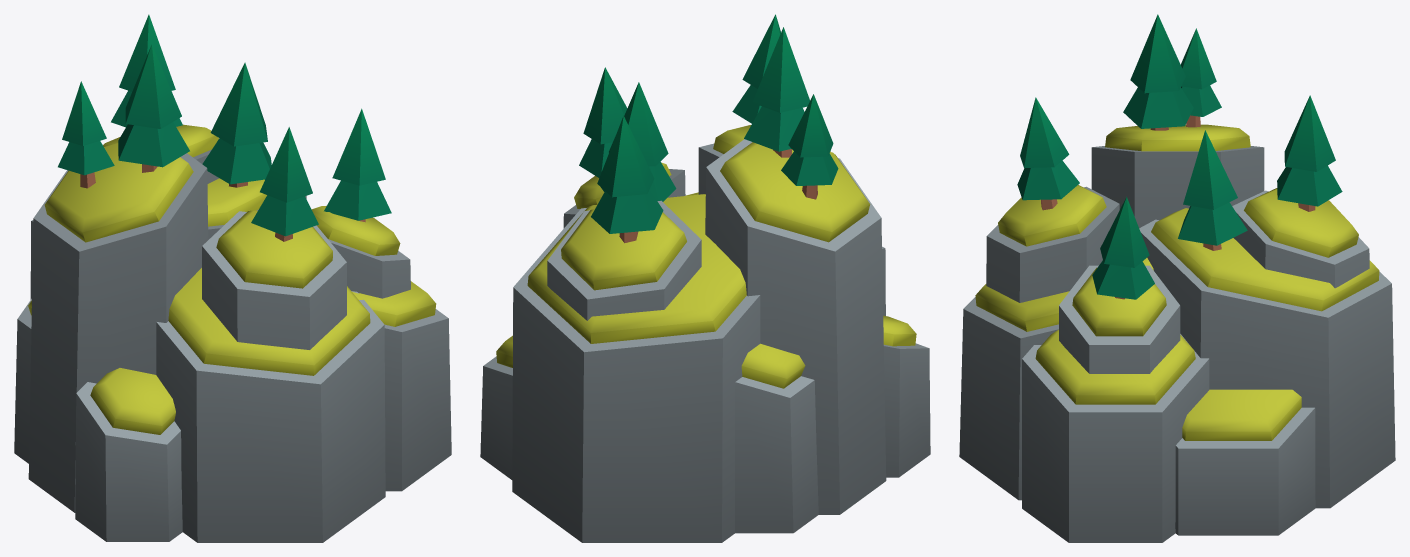
File: mountain_c_grass_trees.glb
3 renders of one model, left to right at view 1: azimuth 30°, elevation 25°; view 2: azimuth 150°, elevation 25°; view 3: azimuth 270°, elevation 25°, orthographic. The views are drawn at different scales.
Parts seen in each view (by area): view 1: mountain_C_grass_trees; view 2: mountain_C_grass_trees; view 3: mountain_C_grass_trees.
Part boxes in pixels (x1,y1,x2,y2): mountain_C_grass_trees: [14, 14, 451, 542]; mountain_C_grass_trees: [480, 14, 930, 542]; mountain_C_grass_trees: [959, 14, 1395, 542].
Size of the model in its own units: 1.76 by 2.11 by 2.02.
1 material, 1 textured.
